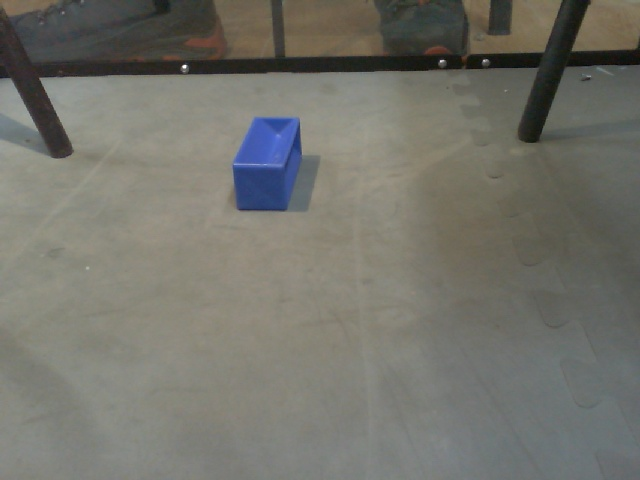BlueSample: (229, 113, 304, 216)
